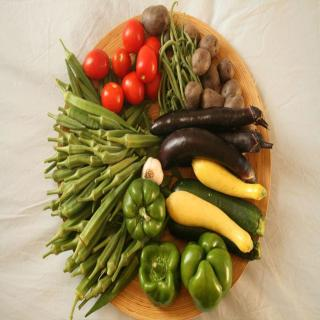Bell pepper: (180, 234, 240, 313), (121, 177, 165, 240), (138, 245, 179, 311)
